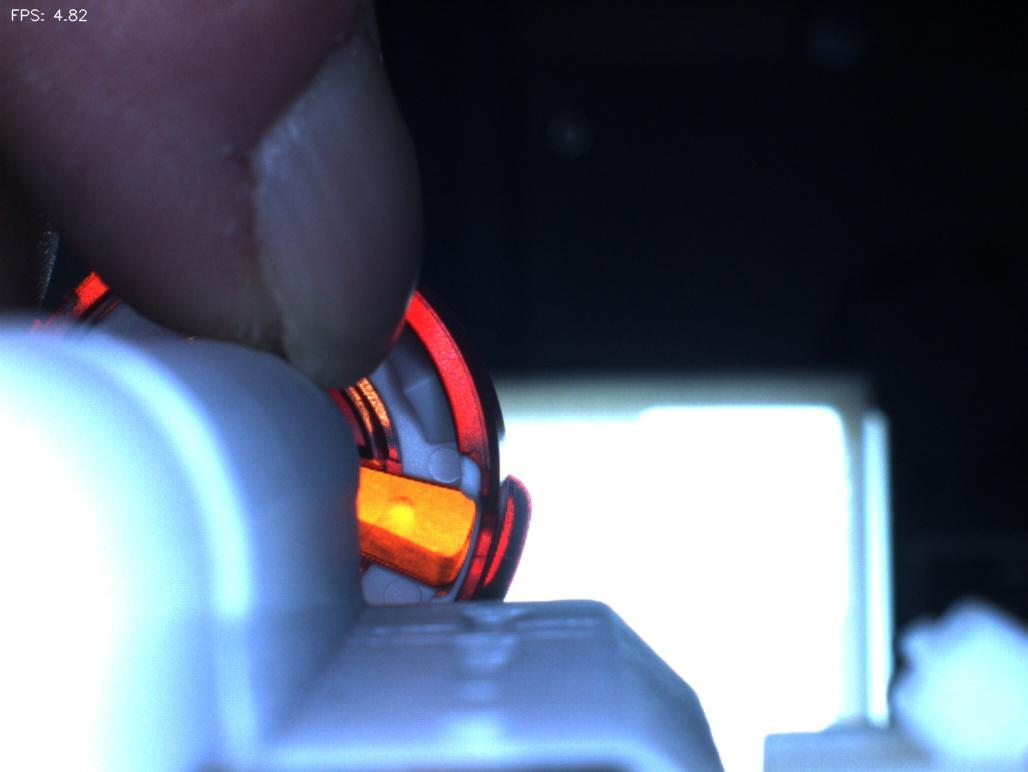Retassure: (358, 479, 431, 548)
